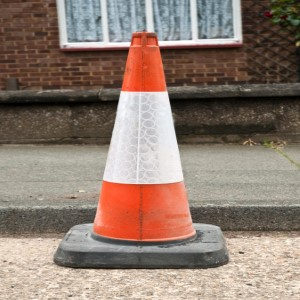traffic cone: (53, 32, 229, 269)
